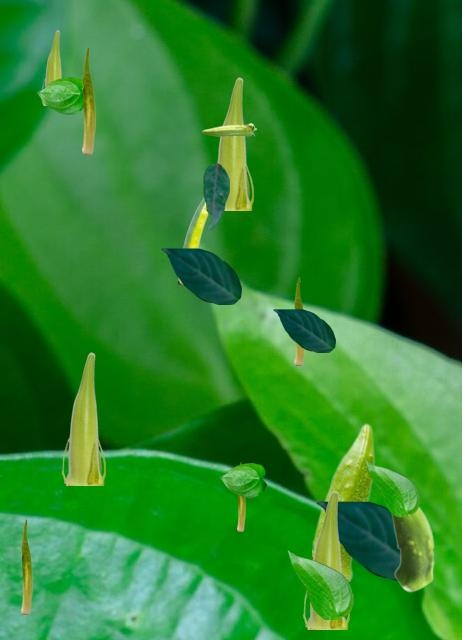okra: (312, 422, 374, 580), (302, 490, 348, 628), (61, 352, 104, 484), (217, 77, 252, 209), (390, 506, 434, 591), (178, 198, 208, 283), (41, 30, 61, 104), (82, 47, 94, 153), (21, 519, 31, 613), (294, 277, 304, 364), (202, 123, 255, 135), (237, 462, 244, 530)
